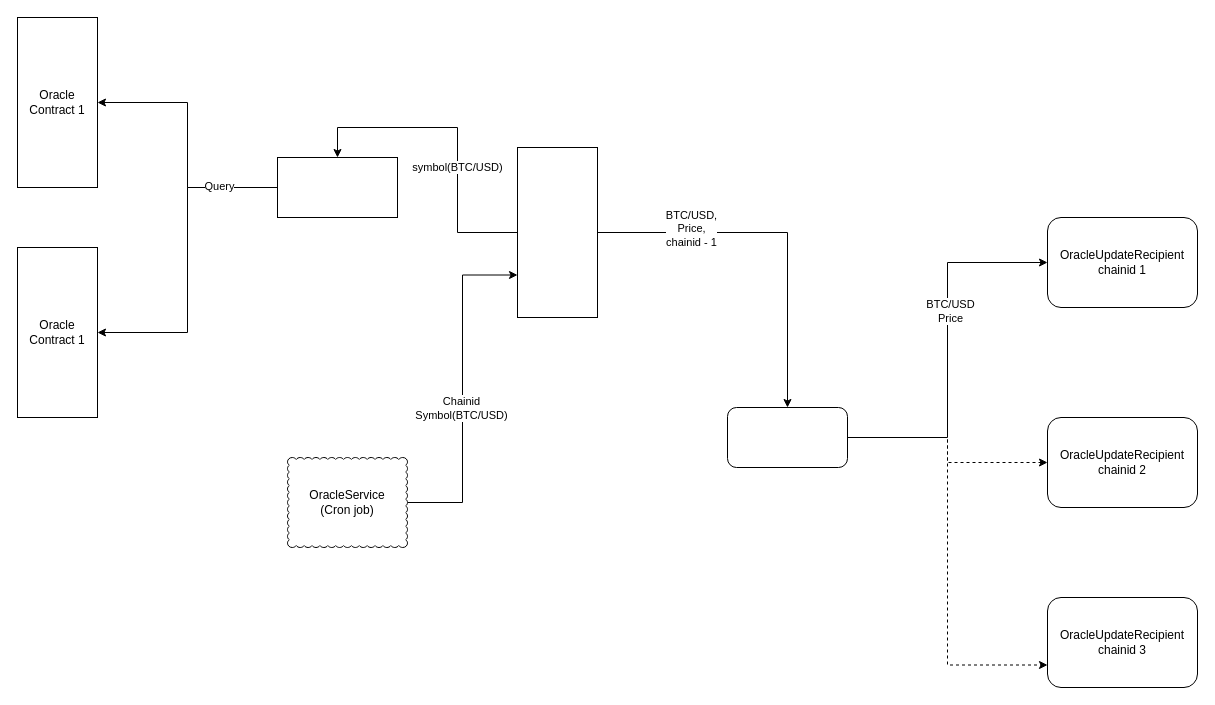
The diagram is 1215 pixels wide and 705 high, and some of its shapes have lost their labels. The box of each missing label's shape, as (x1, y1, x2, y2) in pixels:
Meta Contract: (276, 156, 398, 218)
OracleTrigger Smart Contract: (516, 146, 598, 318)
Spectra: (726, 406, 848, 468)
